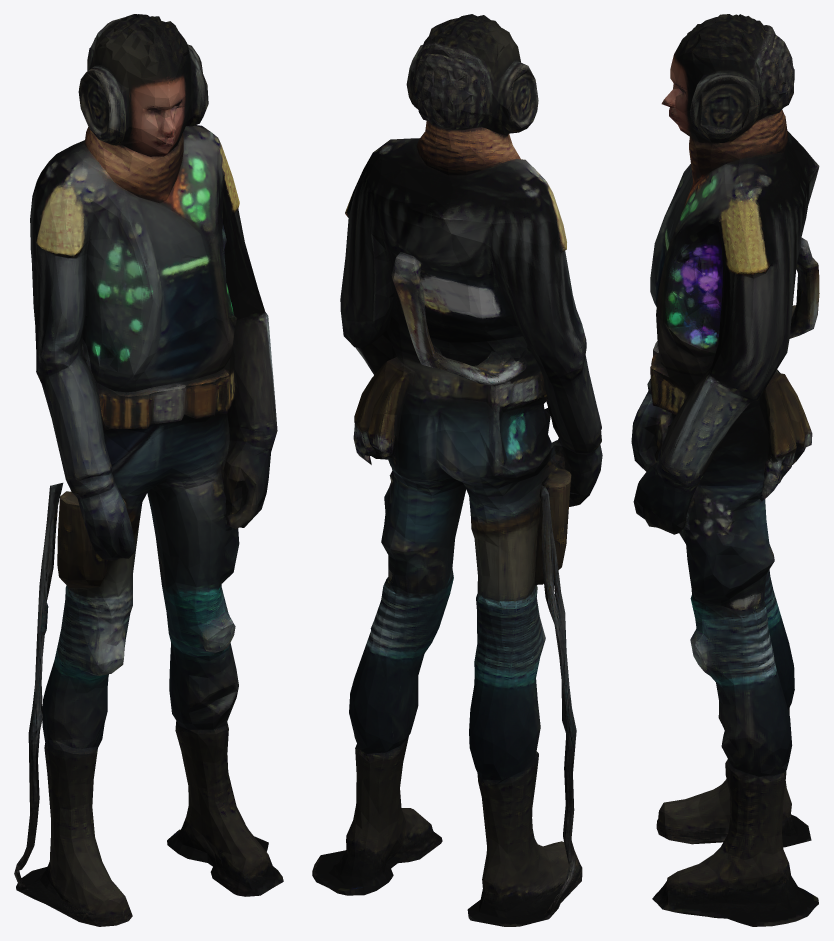
File: peter_quill.glb
3 renders of one model, left to right at view 1: azimuth 30°, elevation 25°; view 2: azimuth 150°, elevation 25°; view 3: azimuth 270°, elevation 25°, orthographic. The views are drawn at different scales.
Parts seen in each view (by area): view 1: world; view 2: world; view 3: world.
Part boxes in pixels (bbox=[...]): world: bbox=[14, 14, 283, 926]; world: bbox=[312, 14, 602, 926]; world: bbox=[631, 14, 819, 926].
Size of the model in its own units: 0.3053 by 1 by 0.2018.
1 material, 1 textured.
